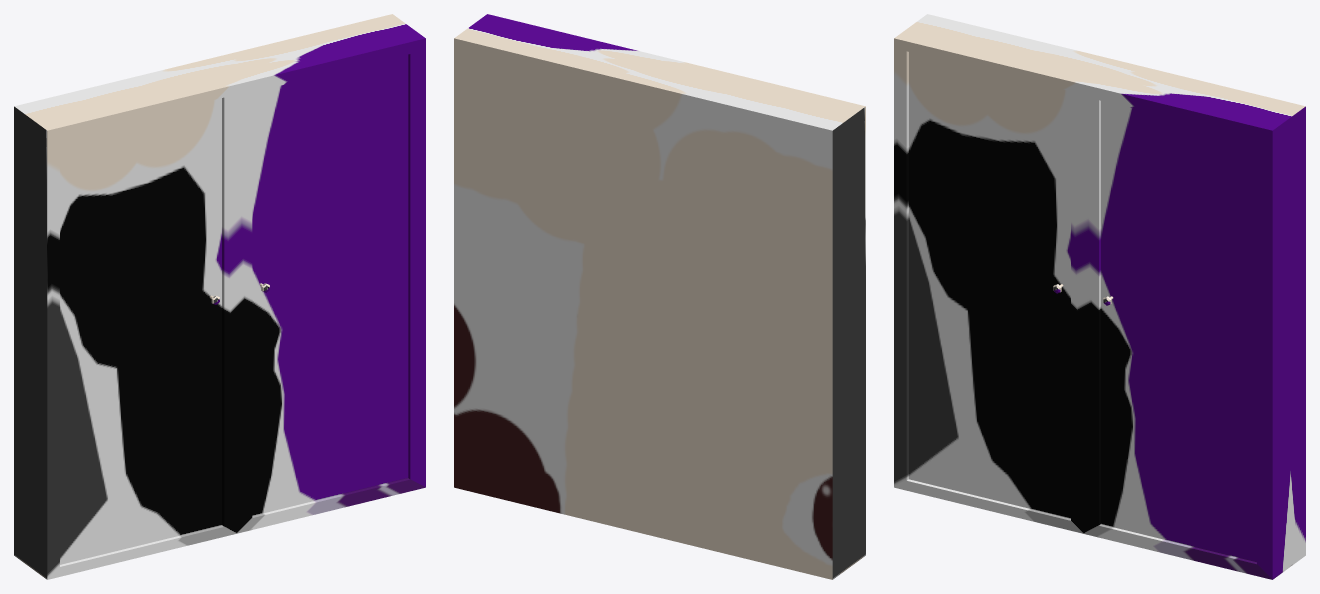
Rendered from armario.fbx.
3 views of the same model, side by side, from view 1: azimuth 30°, elevation 25°; view 2: azimuth 150°, elevation 25°; view 3: azimuth 330°, elevation 25° (orthographic).
Parts seen in each view (by area): view 1: polySurface25; view 2: polySurface25; view 3: polySurface25.
Part boxes in pixels (<box>): polySurface25: <box>14,14,425,579</box>; polySurface25: <box>454,14,865,579</box>; polySurface25: <box>894,14,1305,579</box>.
Bounding box in the file's own units: 21.24 × 24.09 × 3.65.
